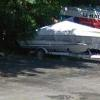Boat: (11, 16, 99, 70)
